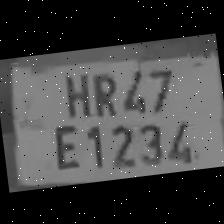1: (77, 118, 108, 170)
2: (103, 116, 136, 167)
3: (132, 112, 166, 164)
4: (160, 112, 196, 164), (114, 60, 148, 114)
7: (140, 59, 176, 113)
E: (46, 118, 82, 172)
H: (56, 66, 92, 117)
R: (86, 65, 119, 117)
